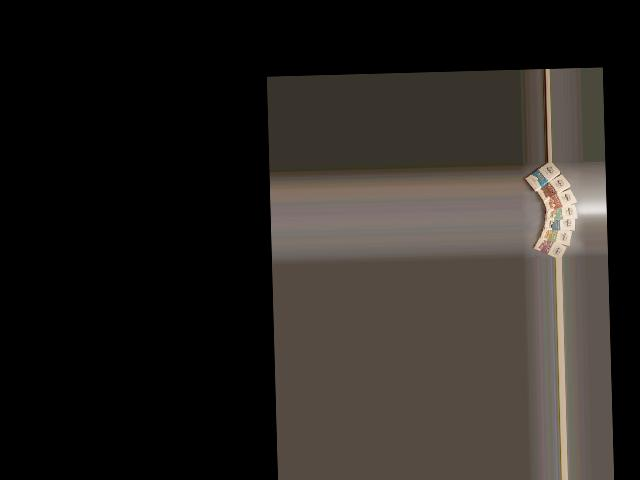chocolate: (522, 162, 562, 191)
